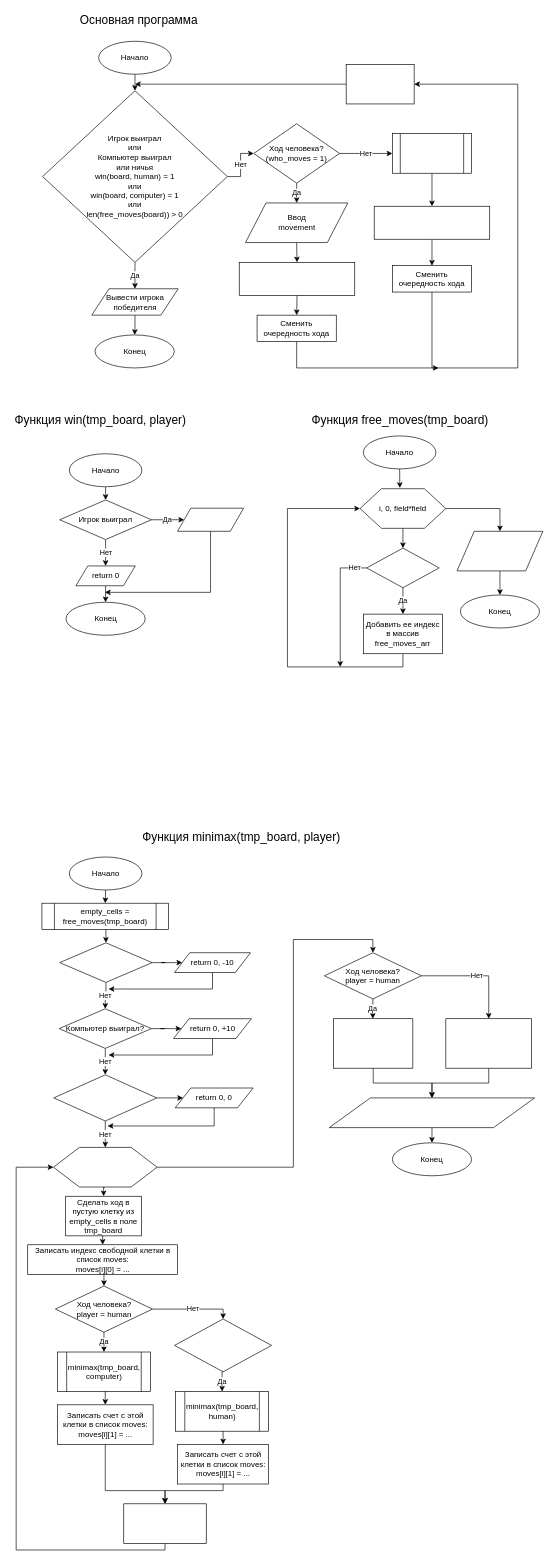
The diagram is 554 pixels wide and 1567 high, and some of its shapes have lost their labels. Here are the shapes that lost their labels. From the top down, the centre of each, then its label:
(380,84): Вывести board
(432,153): Выполнить minimax
(432,222): Сделать ход board[move] = computer
(297,278): Сделать ход board[movement] = human
(210,519): return 1
(402,567): Клетка tmp_board[i] пуста?
(499,551): return free_moves_arr
(105,962): Человек выиграл?
(373,1043): Найти из списка moves ход с наименьшим счетом, записав его в move
(488,1043): Найти из списка moves ход с наибольшим счетом, записав его в move
(105,1097): Есть незанятые клетки?
(432,1112): return moves[move][0], moves[move][1]
(105,1167): i, 0, len(empty_cells)
(223,1345): Ход компьютера? player = computer
(164,1523): Отменить ход в пустую клетку из empty_cells поля tmp_board
